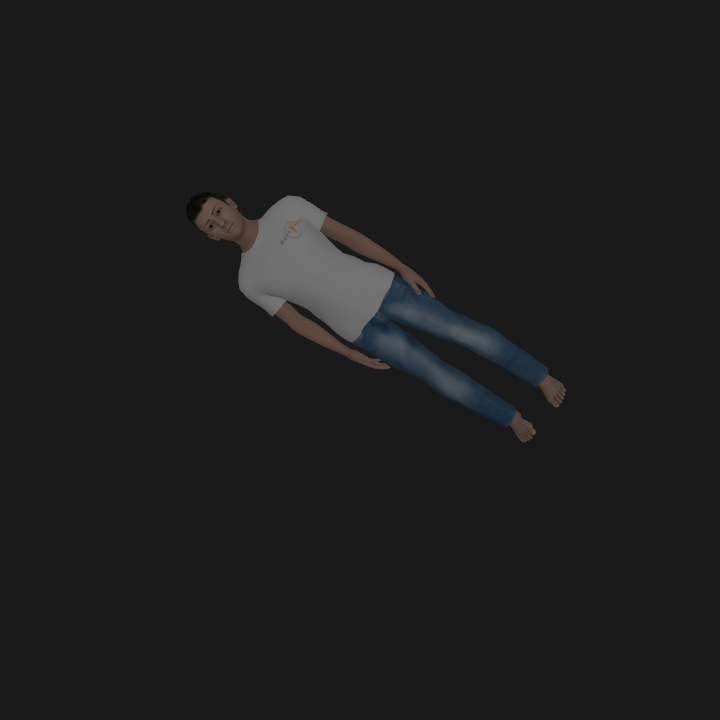victim: (187, 193, 566, 443)
